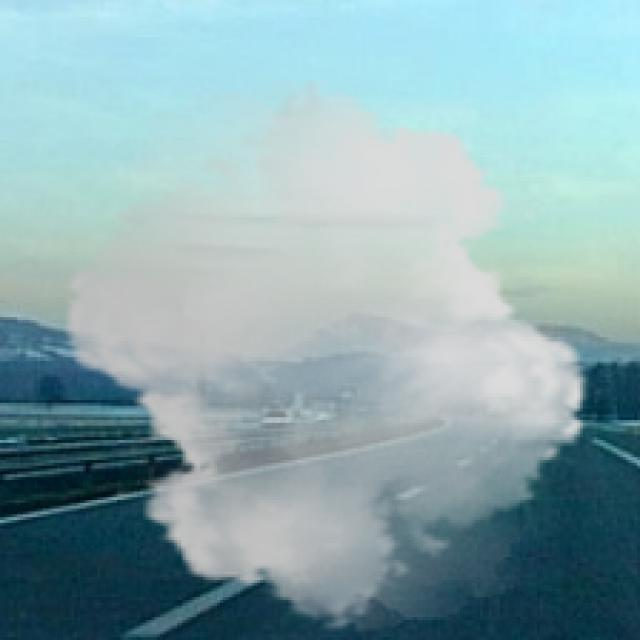Smoke: (42, 79, 608, 632)
